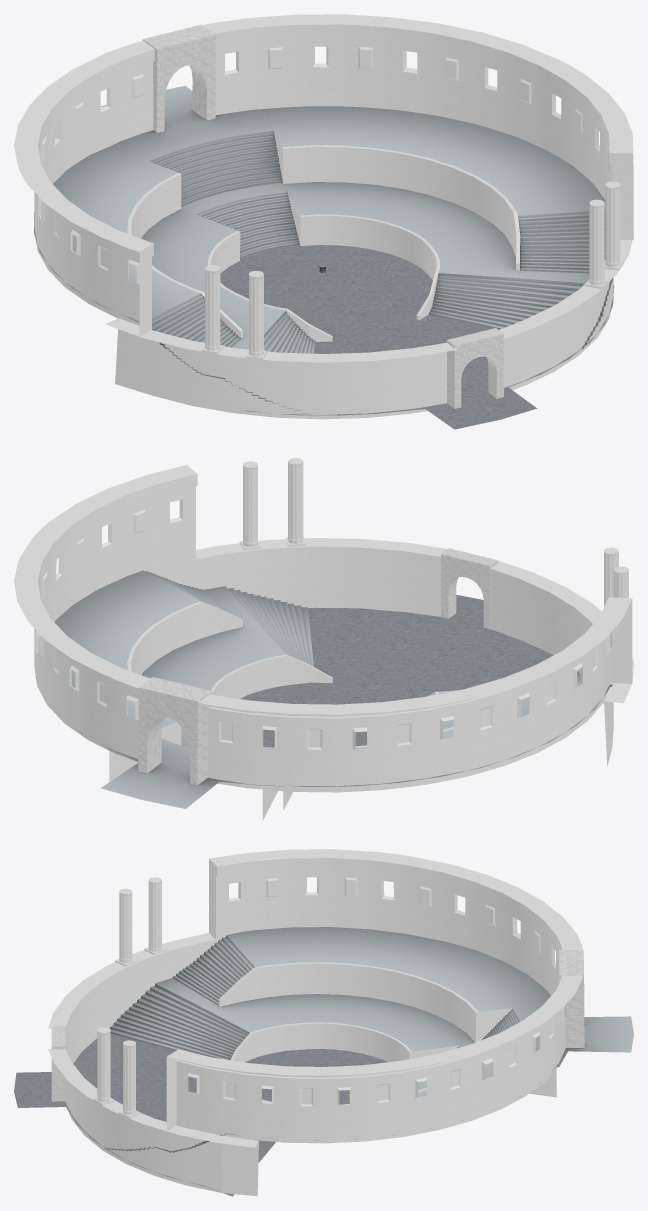
File: history_building.glb
3 views of the same model, one above another, from view 1: azimuth 30°, elevation 25°; view 2: azimuth 150°, elevation 25°; view 3: azimuth 270°, elevation 25° (orthographic). The views are drawn at different scales.
Visible parts, largest first — view 1: wall, floor2, wall02, m_floor, gate; view 2: wall, floor2, m_floor, wall02, gate; view 3: wall, floor2, wall02, m_floor, gate.
Boxes of the visible parts, x1,y1,x2,y2 form: wall: (14,14,633,419); floor2: (34,85,613,413); wall02: (110,112,623,359); m_floor: (220,245,614,429); gate: (142,24,503,408); wall: (14,465,633,792); floor2: (36,570,612,808); m_floor: (240,595,580,747); wall02: (109,458,628,820); gate: (138,548,498,785); wall: (48,849,583,1196); floor2: (104,927,633,1152); wall02: (93,877,556,1118); m_floor: (14,1033,387,1196); gate: (51,950,584,1101).
Bounding box in the file's own units: 66.02 × 18.17 × 76.06.
6 materials, 6 textured.
